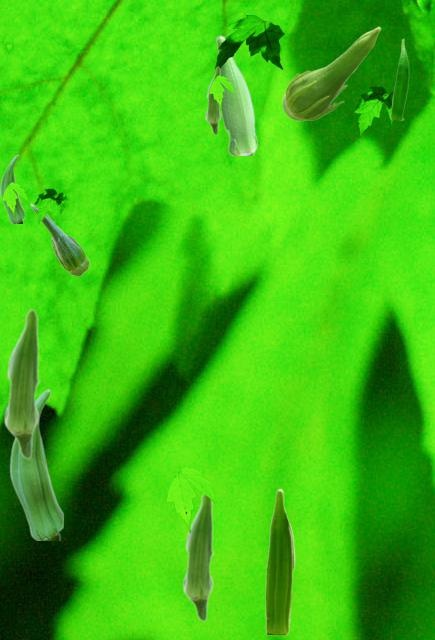okra: (282, 26, 380, 120), (9, 388, 62, 539), (3, 308, 39, 459), (215, 35, 256, 154), (265, 488, 294, 633), (30, 203, 88, 275), (182, 494, 213, 621), (0, 154, 23, 222), (390, 38, 408, 119), (205, 66, 220, 134)
